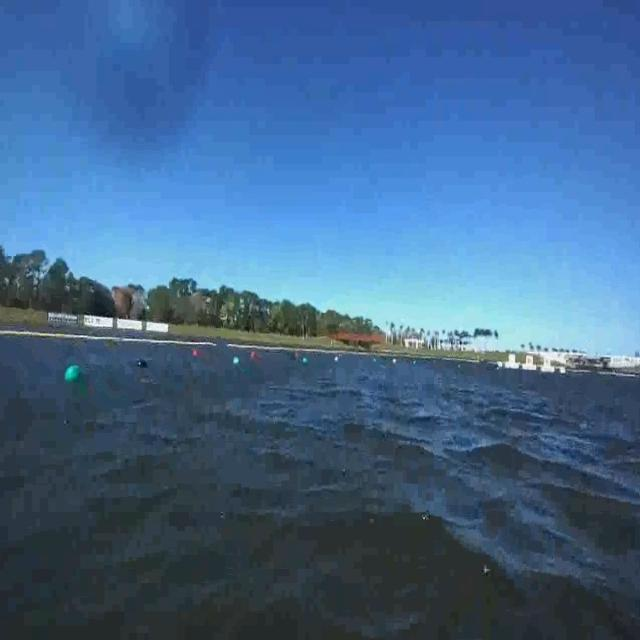black-buoy: (137, 359, 148, 368)
green-buoy: (66, 363, 84, 382)
